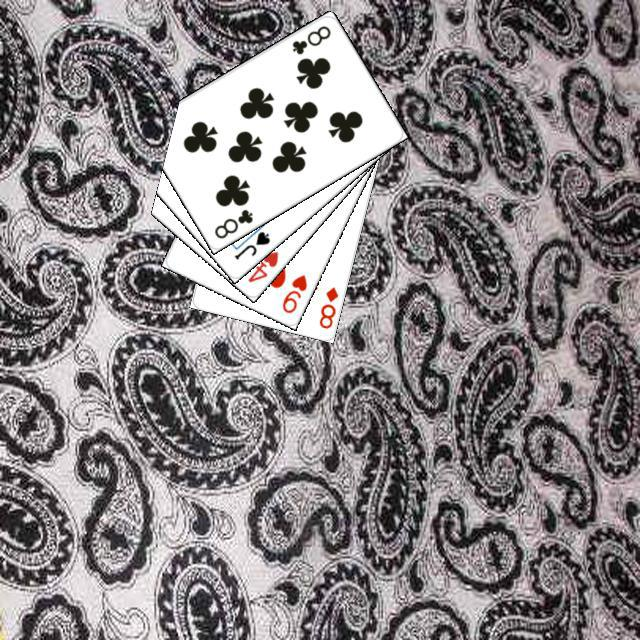4h: (243, 246, 280, 284)
8c: (209, 204, 255, 240), (287, 20, 333, 56)
8d: (314, 282, 340, 330)
9h: (277, 269, 309, 315)
Js: (229, 226, 272, 261)
